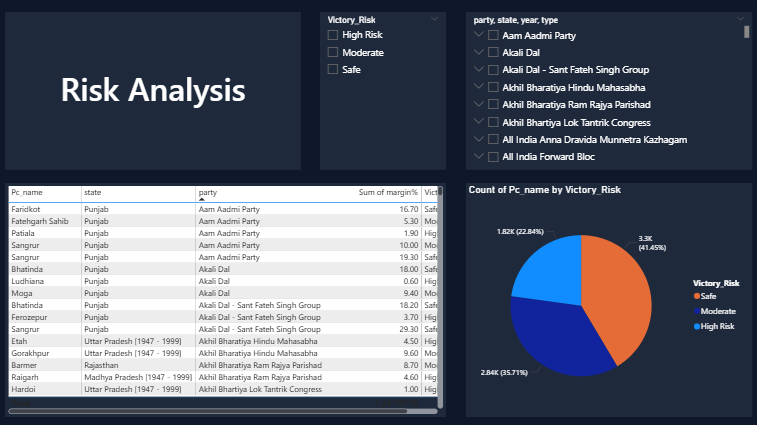

This screenshot's page, from the dashboard's own definition file:
{"tool":"powerbi","page":{"name":"Page 1","canvas":[1280,720],"ordinal":3},"visuals":[{"type":"pieChart","fields":{"Category":["final_processed_election_data.Victory_Risk"],"Y":["CountNonNull(final_processed_election_data.Pc_name)"]},"box":[795,310,485,390],"z":0},{"type":"tableEx","fields":{"Values":["final_processed_election_data.Pc_name","final_processed_election_data.state","final_processed_election_data.party","Sum(final_processed_election_data.margin%)","final_processed_election_data.Victory_Risk"]},"box":[0,310,760,390],"z":1000},{"type":"slicer","fields":{"Values":["final_processed_election_data.Victory_Risk"]},"box":[467.5,0,387.5,280],"z":2000},{"type":"slicer","fields":{"Values":["final_processed_election_data.party","final_processed_election_data.state","final_processed_election_data.year","final_processed_election_data.type"]},"box":[887.5,0,392.5,280],"z":3000},{"type":"textbox","box":[0,0,435,280],"z":4000}]}

Visuals, with their boxes in screenshot pixels (x1, y1, x2, y2), scaled from the page's 1280x720 canvas onto the 757x425 screenshot:
pieChart - final_processed_election_data.Victory_Risk x CountNonNull(final_processed_election_data.Pc_name): bbox(470, 183, 756, 413)
tableEx - final_processed_election_data.Pc_name x final_processed_election_data.state: bbox(0, 183, 449, 413)
slicer - final_processed_election_data.Victory_Risk: bbox(276, 0, 506, 165)
slicer - final_processed_election_data.party x final_processed_election_data.state: bbox(525, 0, 756, 165)
textbox: bbox(0, 0, 257, 165)
